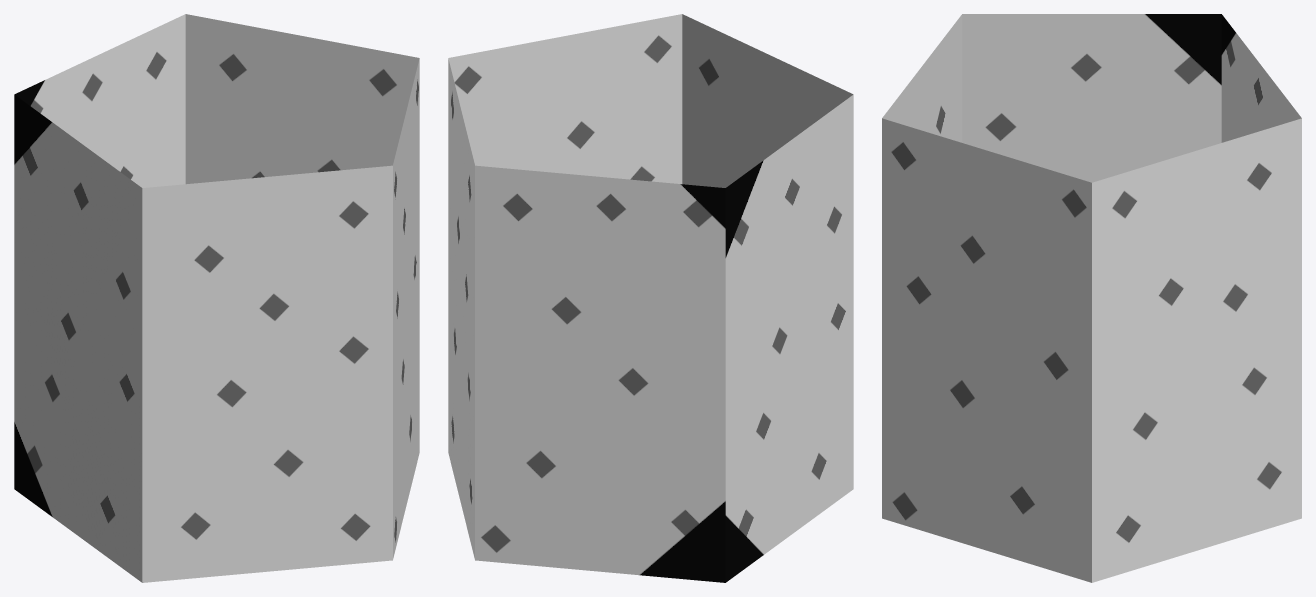
File: decoracion cartel.fbx
3 views of the same model, side by side, from view 1: azimuth 30°, elevation 25°; view 2: azimuth 150°, elevation 25°; view 3: azimuth 270°, elevation 25° (orthographic).
Visible parts, largest first — view 1: pCylinder4; view 2: pCylinder4; view 3: pCylinder4.
Boxes of the visible parts, bbox=[...] form: pCylinder4: bbox=[14, 14, 419, 582]; pCylinder4: bbox=[448, 14, 853, 582]; pCylinder4: bbox=[882, 14, 1301, 582].
Bounding box in the file's own units: 3.22 × 3.56 × 3.39.
